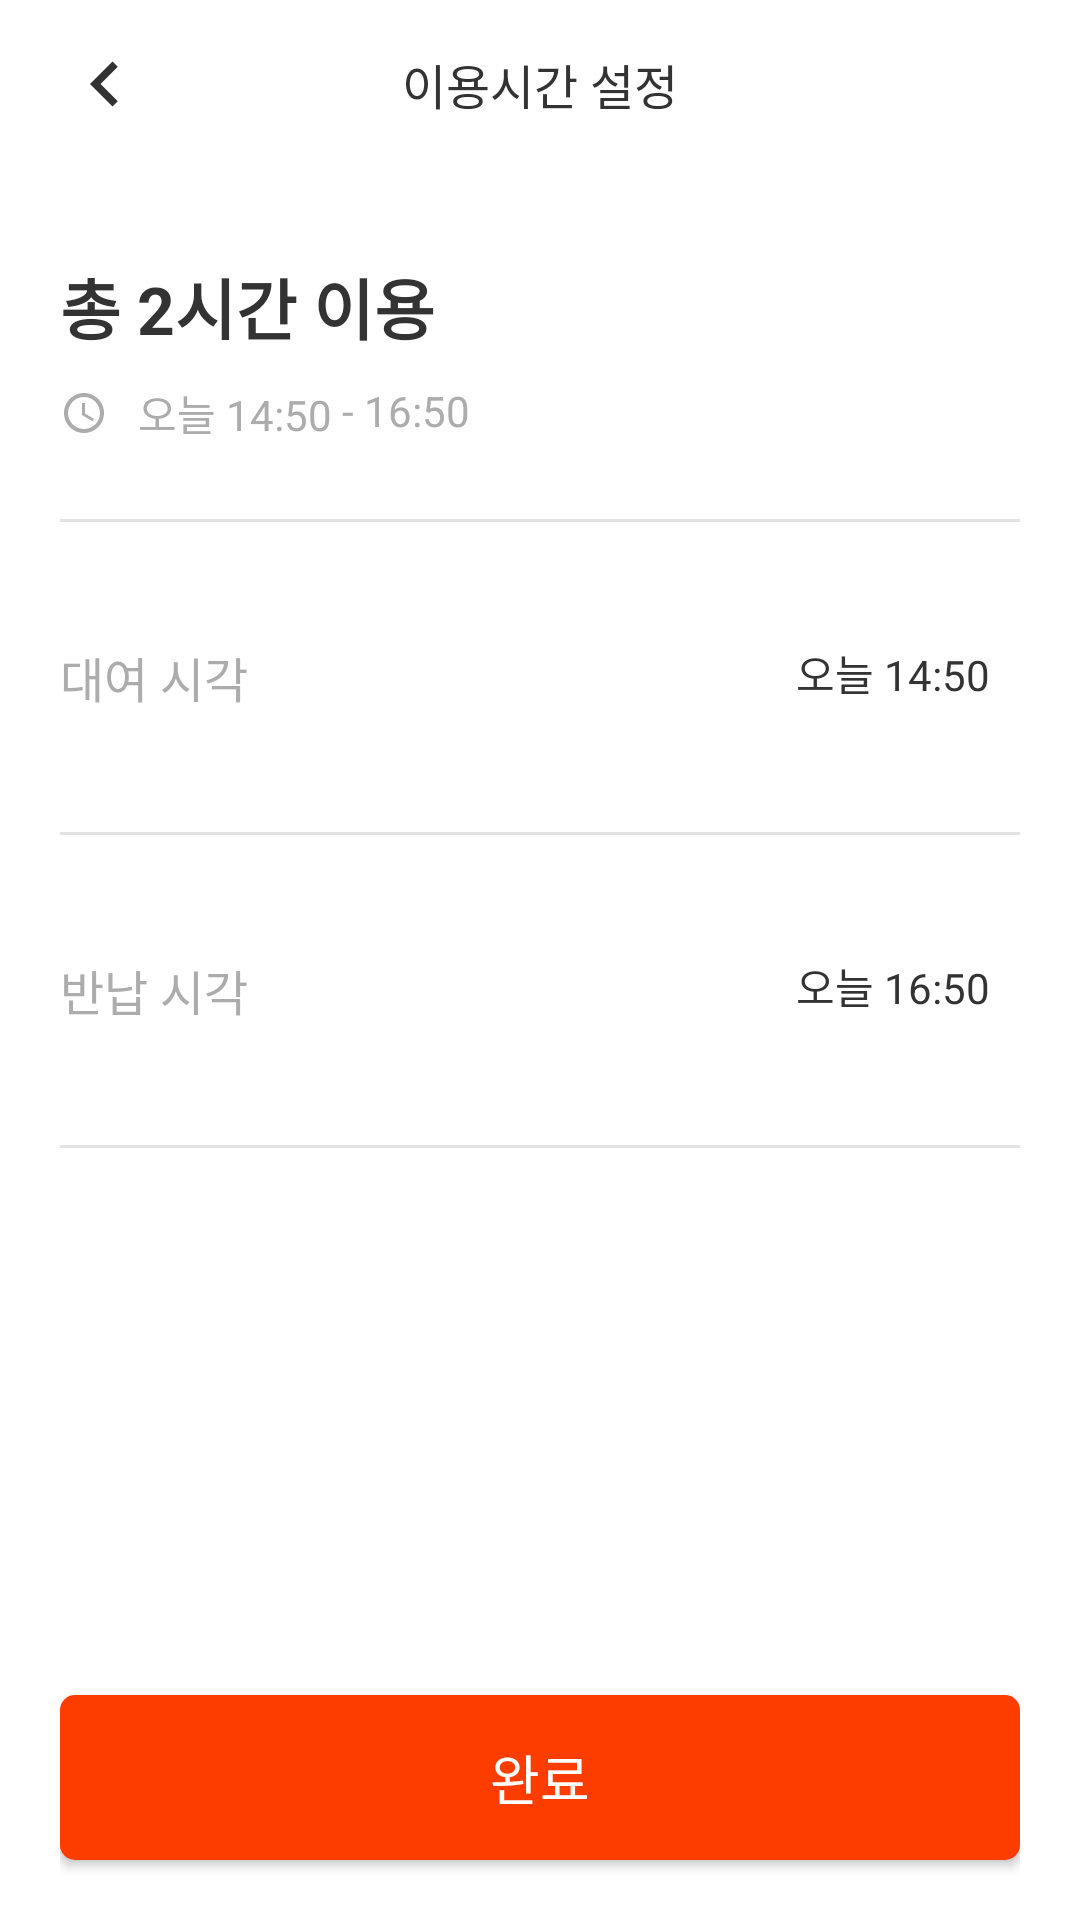

Screen size 1080w x 1920h. Icon name, then its center in pixels as (x,y):
back: (104,84)
schedule: (84,413)
